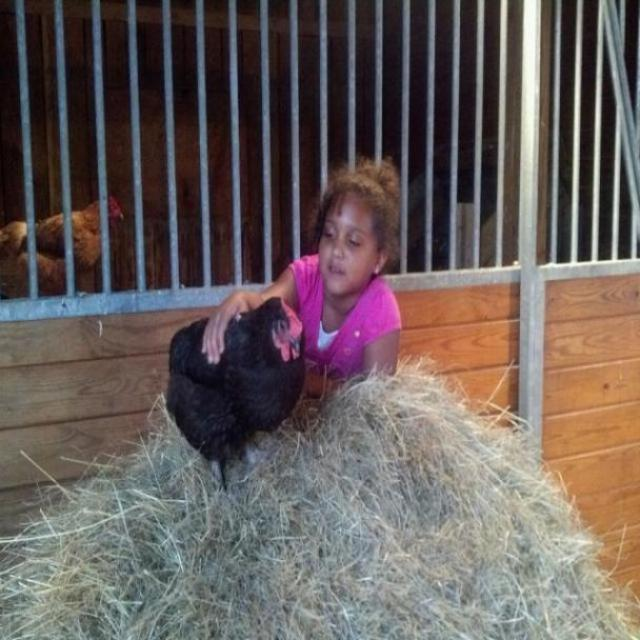Chicken: (156, 270, 310, 524), (0, 184, 132, 299)
